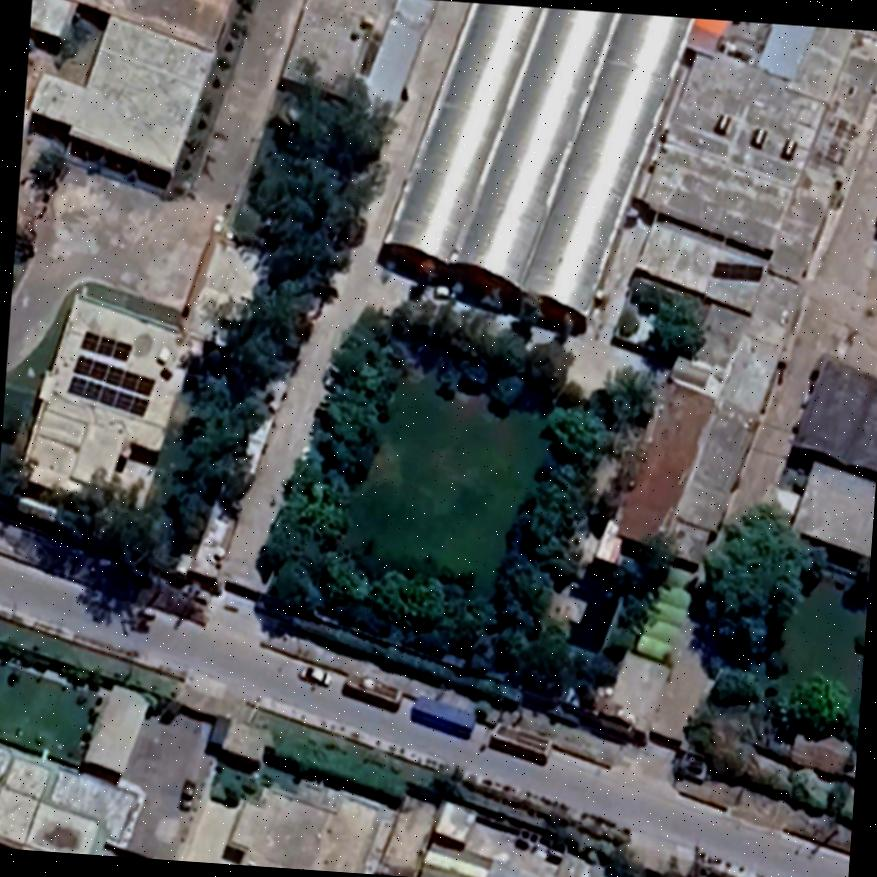Solarpanel: (67, 352, 154, 398), (65, 375, 148, 417), (77, 328, 133, 362), (711, 261, 762, 280)
